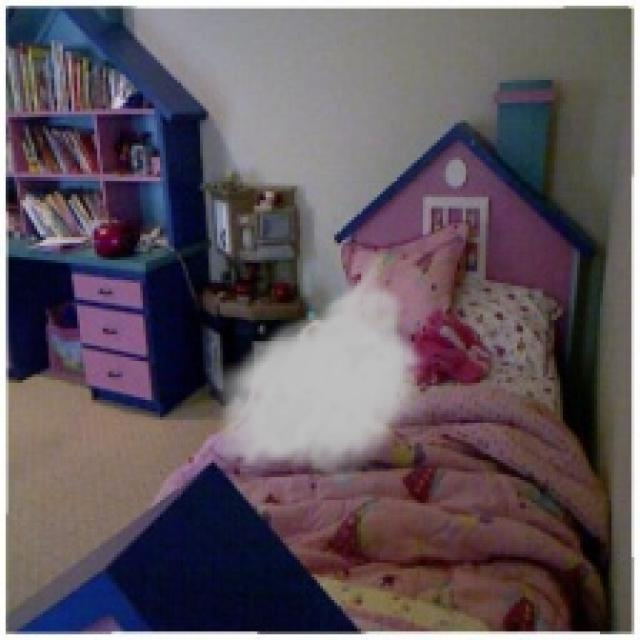Smoke: (202, 240, 432, 483)
